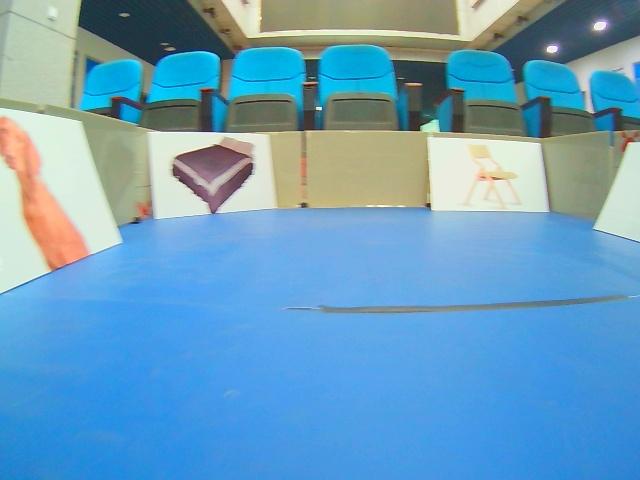bed: (148, 131, 279, 222)
table: (427, 137, 550, 219)
